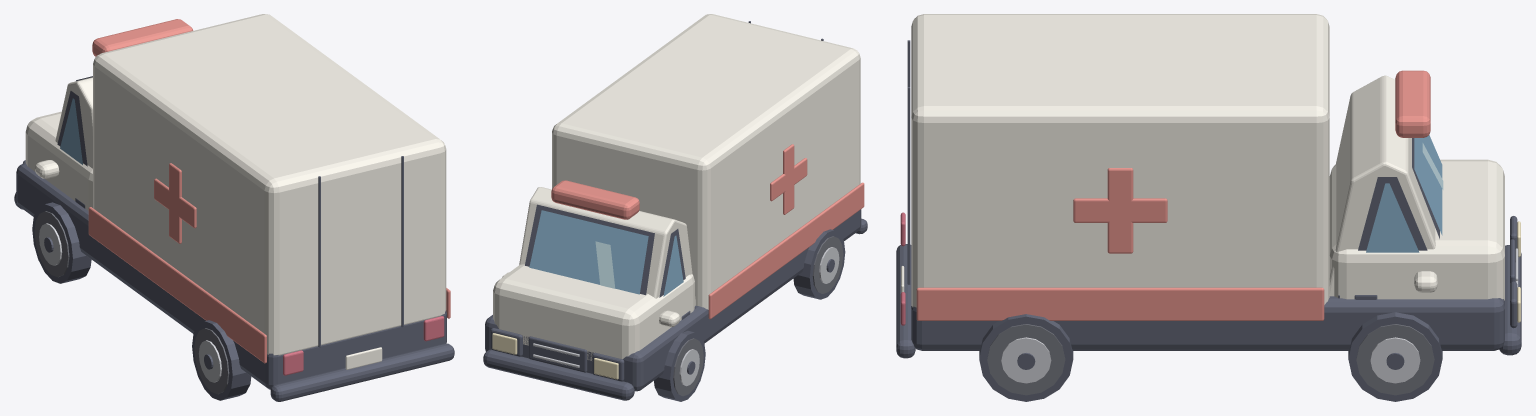
The model's file is ambulance.glb.
3 views of the same model, side by side, from view 1: azimuth 30°, elevation 25°; view 2: azimuth 150°, elevation 25°; view 3: azimuth 270°, elevation 25° (orthographic). The views are drawn at different scales.
Visible parts, largest first — view 1: Cargo_shell, Truck_chassis, Brand_lower_band, Rear_bumper, Cab_lower, Rubber_tire, Rubber_tire.002, Roof_lightbar, Shaped_passenger_cabin, Wheel_sidewall, Wheel_sidewall.002, Medical_cross_horizontal (+10 smaller); view 2: Cargo_shell, Cab_lower, Blue_windscreen, Truck_chassis, Brand_lower_band, Shaped_passenger_cabin, Front_bumper, Roof_lightbar, Dark_windscreen_seal, Rubber_tire, Rubber_tire.002, Grille (+13 smaller); view 3: Cargo_shell, Truck_chassis, Cab_lower, Brand_lower_band.001, Shaped_passenger_cabin, Wheel_sidewall.003, Wheel_sidewall.001, Rubber_tire.001, Roof_lightbar, Rubber_tire.003, Medical_cross_horizontal.001, Medical_cross_vertical.001 (+8 smaller).
Part boxes in pixels (x1=…): Cargo_shell: x1=93, y1=14, x2=446, y2=355; Truck_chassis: x1=16, y1=163, x2=446, y2=389; Brand_lower_band: x1=88, y1=207, x2=266, y2=363; Rear_bumper: x1=270, y1=343, x2=454, y2=401; Cab_lower: x1=25, y1=111, x2=92, y2=210; Rubber_tire: x1=32, y1=202, x2=91, y2=283; Rubber_tire.002: x1=192, y1=320, x2=251, y2=400; Roof_lightbar: x1=92, y1=19, x2=193, y2=56; Shaped_passenger_cabin: x1=55, y1=77, x2=92, y2=168; Wheel_sidewall: x1=34, y1=211, x2=69, y2=277; Wheel_sidewall.002: x1=194, y1=328, x2=229, y2=394; Medical_cross_horizontal: x1=154, y1=178, x2=196, y2=228; Cargo_shell: x1=552, y1=14, x2=860, y2=309; Cab_lower: x1=493, y1=264, x2=694, y2=360; Blue_windscreen: x1=529, y1=210, x2=648, y2=294; Truck_chassis: x1=485, y1=209, x2=861, y2=391; Brand_lower_band: x1=708, y1=182, x2=864, y2=319; Shaped_passenger_cabin: x1=519, y1=187, x2=695, y2=305; Front_bumper: x1=483, y1=349, x2=634, y2=400; Roof_lightbar: x1=551, y1=180, x2=639, y2=219; Dark_windscreen_seal: x1=525, y1=204, x2=654, y2=295; Rubber_tire: x1=654, y1=331, x2=705, y2=401; Rubber_tire.002: x1=793, y1=229, x2=845, y2=299; Grille: x1=528, y1=336, x2=587, y2=372; Cargo_shell: x1=911, y1=14, x2=1329, y2=307; Truck_chassis: x1=911, y1=296, x2=1504, y2=350; Cab_lower: x1=1329, y1=159, x2=1504, y2=300; Brand_lower_band.001: x1=916, y1=287, x2=1324, y2=320; Shaped_passenger_cabin: x1=1329, y1=75, x2=1435, y2=296; Wheel_sidewall.003: x1=987, y1=324, x2=1065, y2=395; Wheel_sidewall.001: x1=1356, y1=324, x2=1434, y2=395; Rubber_tire.001: x1=1348, y1=312, x2=1442, y2=401; Roof_lightbar: x1=1395, y1=70, x2=1430, y2=137; Rubber_tire.003: x1=979, y1=314, x2=1073, y2=401; Medical_cross_horizontal.001: x1=1073, y1=198, x2=1167, y2=222; Medical_cross_vertical.001: x1=1107, y1=168, x2=1133, y2=253.
Size of the model in its own units: 2.56 by 2.95 by 5.84.
